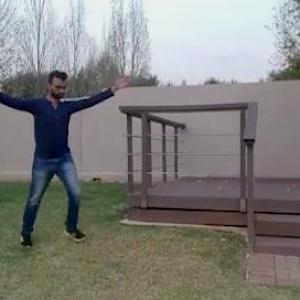takeoff: (0, 68, 137, 245)
